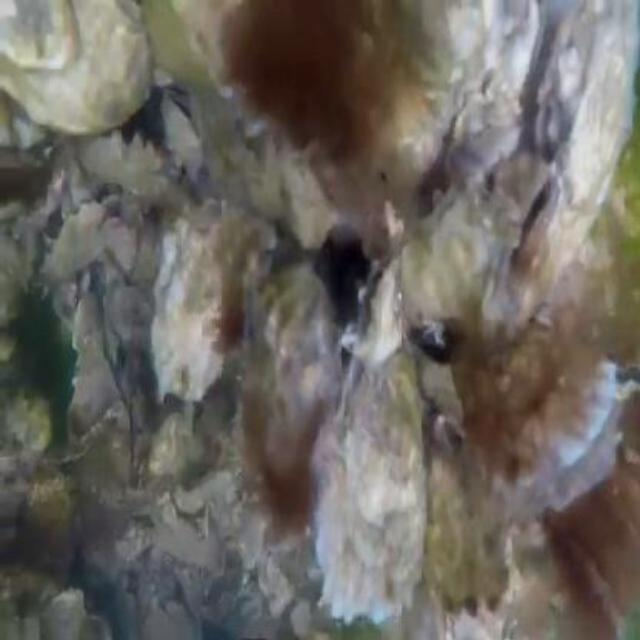Oyster-Closed: (499, 0, 638, 332), (311, 336, 430, 634), (0, 0, 156, 134), (154, 211, 228, 403), (409, 176, 502, 318), (242, 261, 328, 358)
Oyster-Open: (514, 357, 623, 516), (341, 251, 404, 375), (507, 164, 559, 269)
